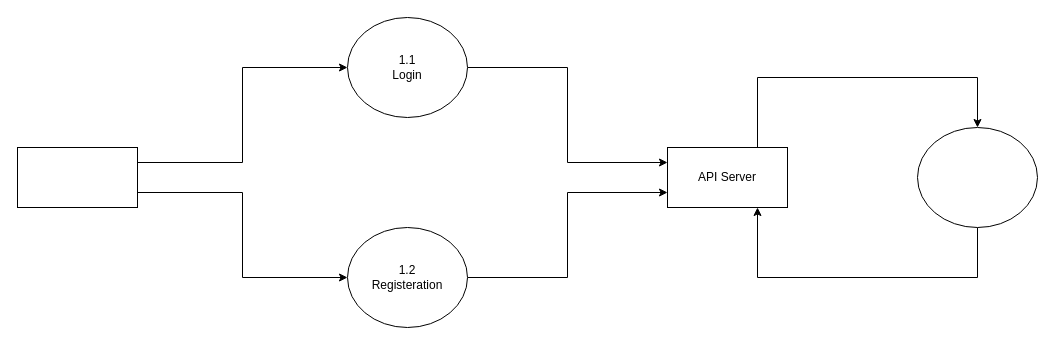
This 1055x345 diagram has some shape labels left out. Here are the shapes that lost their labels. From the top down, the centre of each, then its label:
At [77,177]: "User".
At [977,177]: "1.3 Verfikasi".
